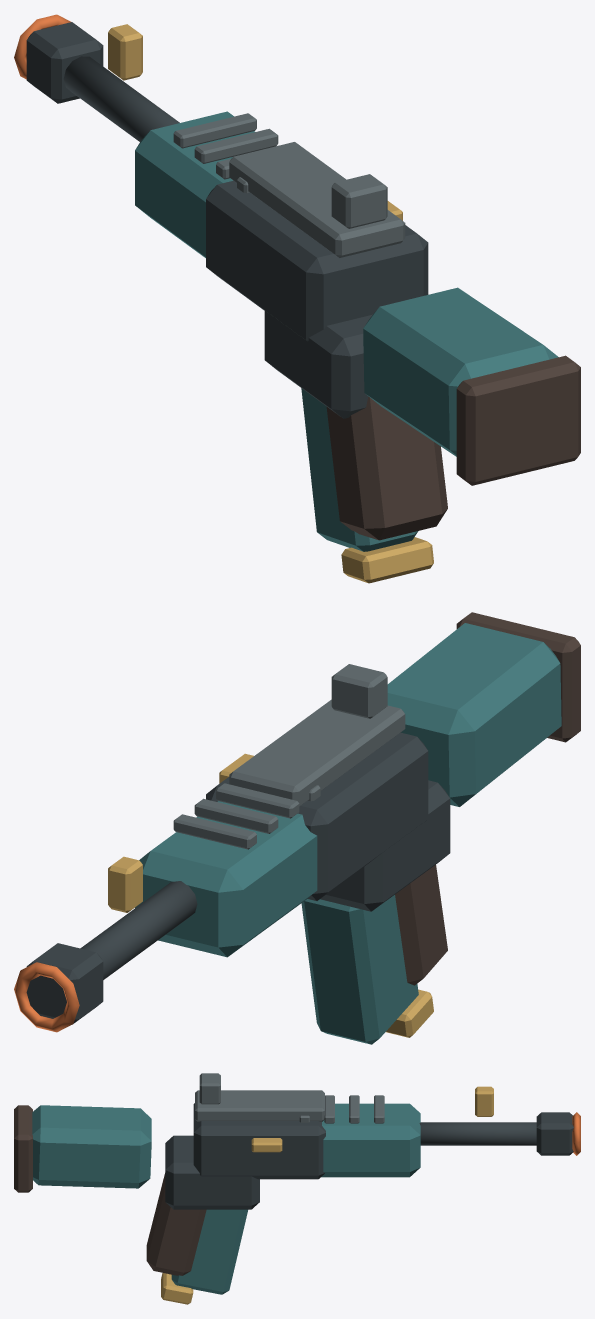
The model's file is AssaultRifle.glb.
3 renders of one model, top to bottom at view 1: azimuth 30°, elevation 25°; view 2: azimuth 150°, elevation 25°; view 3: azimuth 270°, elevation 25°, orthographic. The views are drawn at different scales.
Parts seen in each view (by area): view 1: Upper receiver, Buttstock, Buttpad, Pistol grip, Top rail, Handguard, Lower receiver, Magazine, Barrel, Muzzle brake, Magazine floorplate, Rear sight (+4 smaller); view 2: Buttstock, Handguard, Magazine, Upper receiver, Top rail, Lower receiver, Barrel, Pistol grip, Muzzle brake, Buttpad, Rear sight, Muzzle accent (+5 smaller); view 3: Buttstock, Upper receiver, Handguard, Lower receiver, Magazine, Top rail, Pistol grip, Barrel, Buttpad, Muzzle brake, Rear sight, Magazine floorplate (+5 smaller).
Boxes of the visible parts, <box> form: Upper receiver: <box>206,180,428,341</box>; Buttstock: <box>363,287,558,456</box>; Buttpad: <box>456,355,580,485</box>; Pistol grip: <box>326,396,447,540</box>; Top rail: <box>229,142,405,257</box>; Handguard: <box>135,111,254,257</box>; Lower receiver: <box>264,310,372,418</box>; Magazine: <box>301,388,418,551</box>; Barrel: <box>63,56,179,141</box>; Muzzle brake: <box>26,22,103,103</box>; Magazine floorplate: <box>341,537,433,583</box>; Rear sight: <box>331,174,387,228</box>; Buttstock: <box>387,623,561,806</box>; Handguard: <box>135,801,317,957</box>; Magazine: <box>301,895,418,1044</box>; Upper receiver: <box>206,732,428,900</box>; Top rail: <box>229,699,405,806</box>; Lower receiver: <box>320,780,450,911</box>; Barrel: <box>80,881,197,979</box>; Pistol grip: <box>395,865,447,985</box>; Muzzle brake: <box>26,943,103,1024</box>; Buttpad: <box>456,612,580,742</box>; Rear sight: <box>331,664,387,718</box>; Muzzle accent: <box>14,962,79,1032</box>; Buttstock: <box>32,1105,151,1188</box>; Upper receiver: <box>193,1103,325,1179</box>; Handguard: <box>321,1103,420,1177</box>; Lower receiver: <box>165,1135,259,1209</box>; Magazine: <box>171,1209,247,1294</box>; Top rail: <box>195,1090,324,1121</box>; Pistol grip: <box>146,1173,206,1275</box>; Barrel: <box>419,1122,536,1145</box>; Buttpad: <box>14,1105,32,1192</box>; Muzzle brake: <box>536,1112,573,1155</box>; Rear sight: <box>199,1073,220,1104</box>; Magazine floorplate: <box>161,1273,193,1304</box>.
Size of the model in its own units: 0.405 by 1.02 by 2.4.
